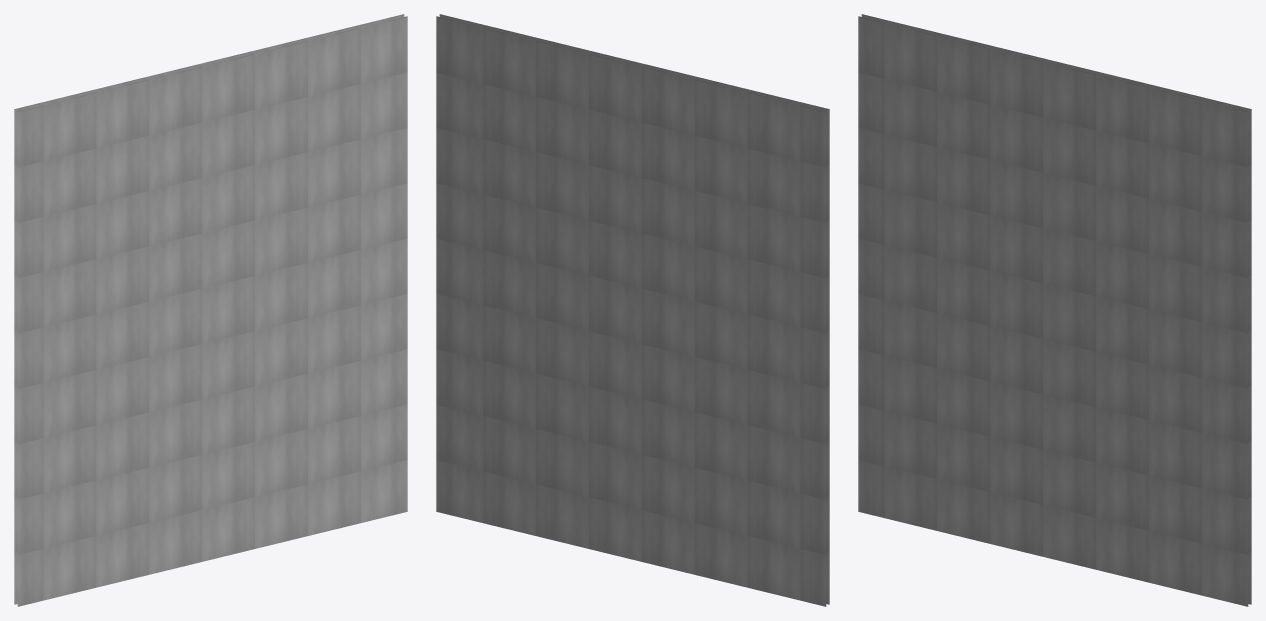
File: floor_6.obj
The picture shows the model from 3 angles, left to right: view 1: azimuth 30°, elevation 25°; view 2: azimuth 150°, elevation 25°; view 3: azimuth 330°, elevation 25°; orthographic projection.
Visible parts, largest first — view 1: floor_6; view 2: floor_6; view 3: floor_6.
Part boxes in pixels (x1,y1,x2,y2): floor_6: (14,14,407,606); floor_6: (436,14,829,606); floor_6: (858,14,1251,606).
Bounding box in the file's own units: 7.38 × 8.96 × 0.1.
Materials: 1 (1 with a texture image).
